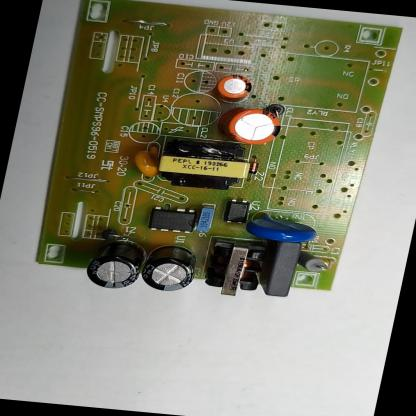Cap1: (214, 104, 286, 146)
Cap2: (214, 73, 255, 100)
Cap3: (137, 242, 201, 294)
Cap4: (79, 236, 145, 292)
MOSFET: (145, 205, 198, 235)
Mov: (242, 210, 322, 245)
Resistor: (297, 250, 329, 274)
Transformer: (152, 137, 250, 191), (200, 240, 268, 300)
